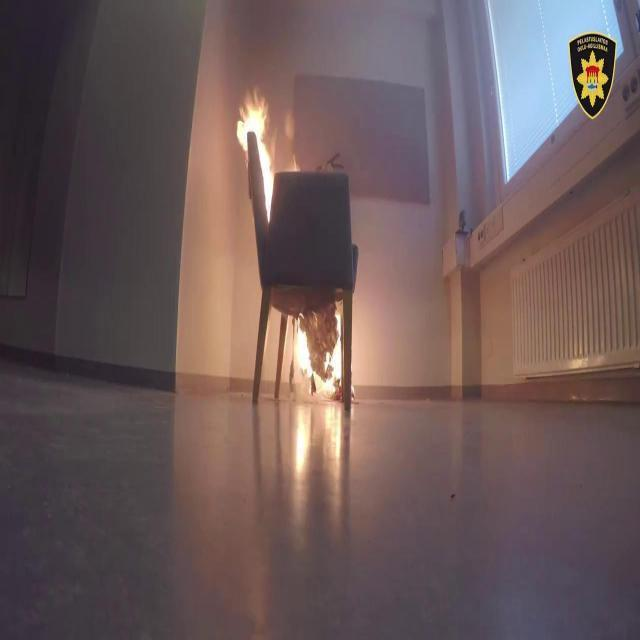smoke: (293, 298, 355, 401), (235, 80, 278, 221)
